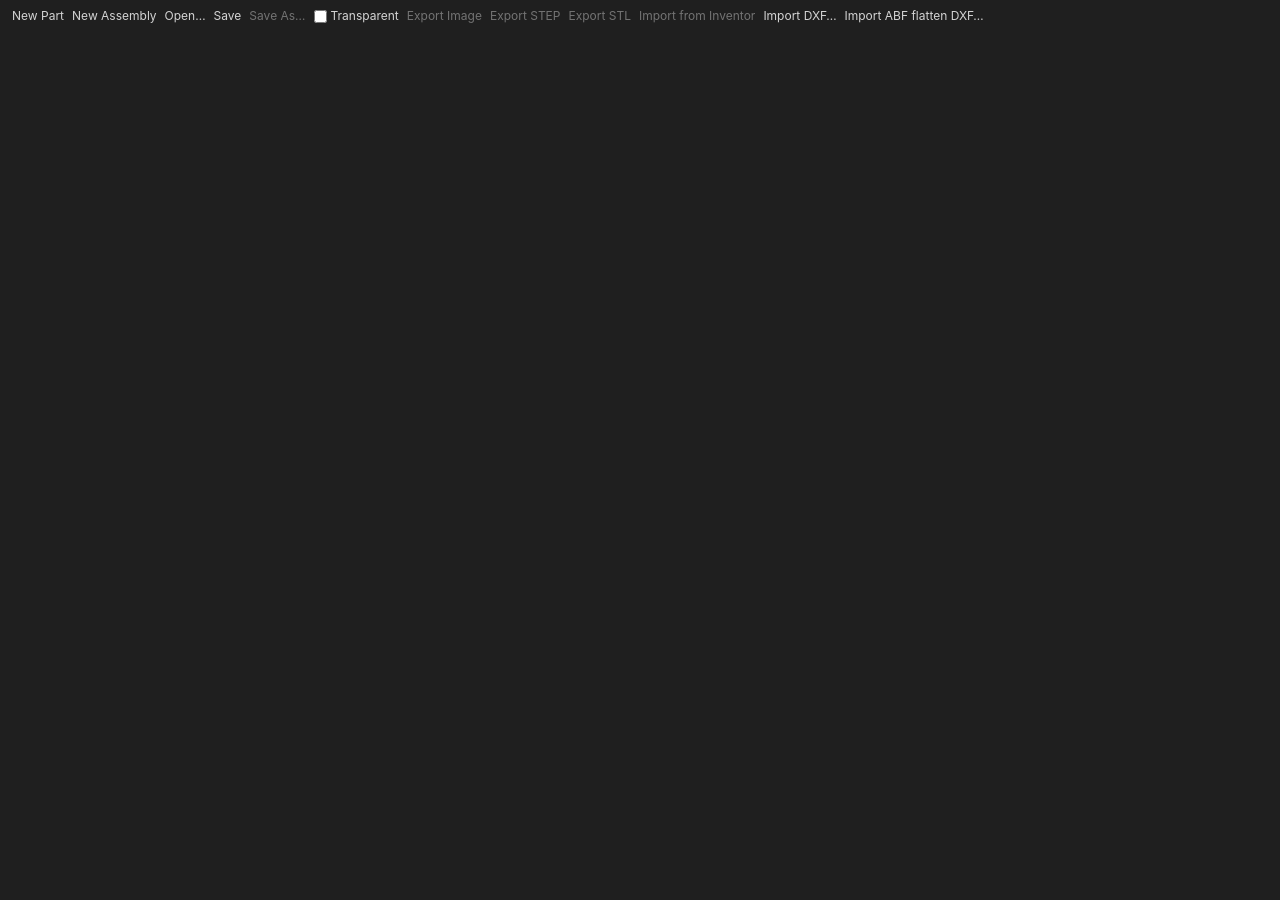
Test: handleOpen — STEP byte-size guard (A4) › rejects a STEP file larger than STEP_MAX_BYTES with an error dialog
The image size is (1280, 900).
Step 1. Click the button "Open…" → (185, 16), box [165,8,206,24]
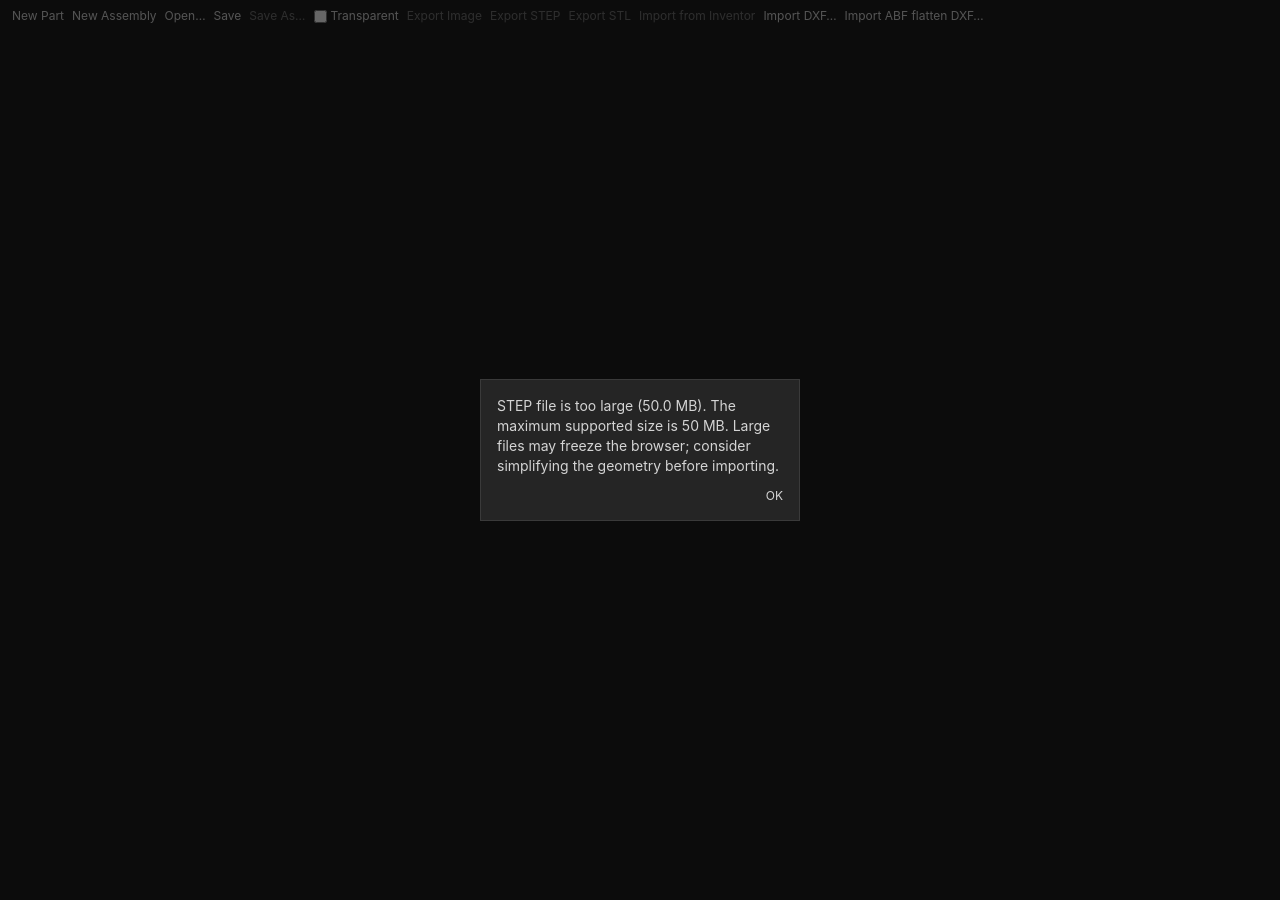
Result: the dialog is shown
